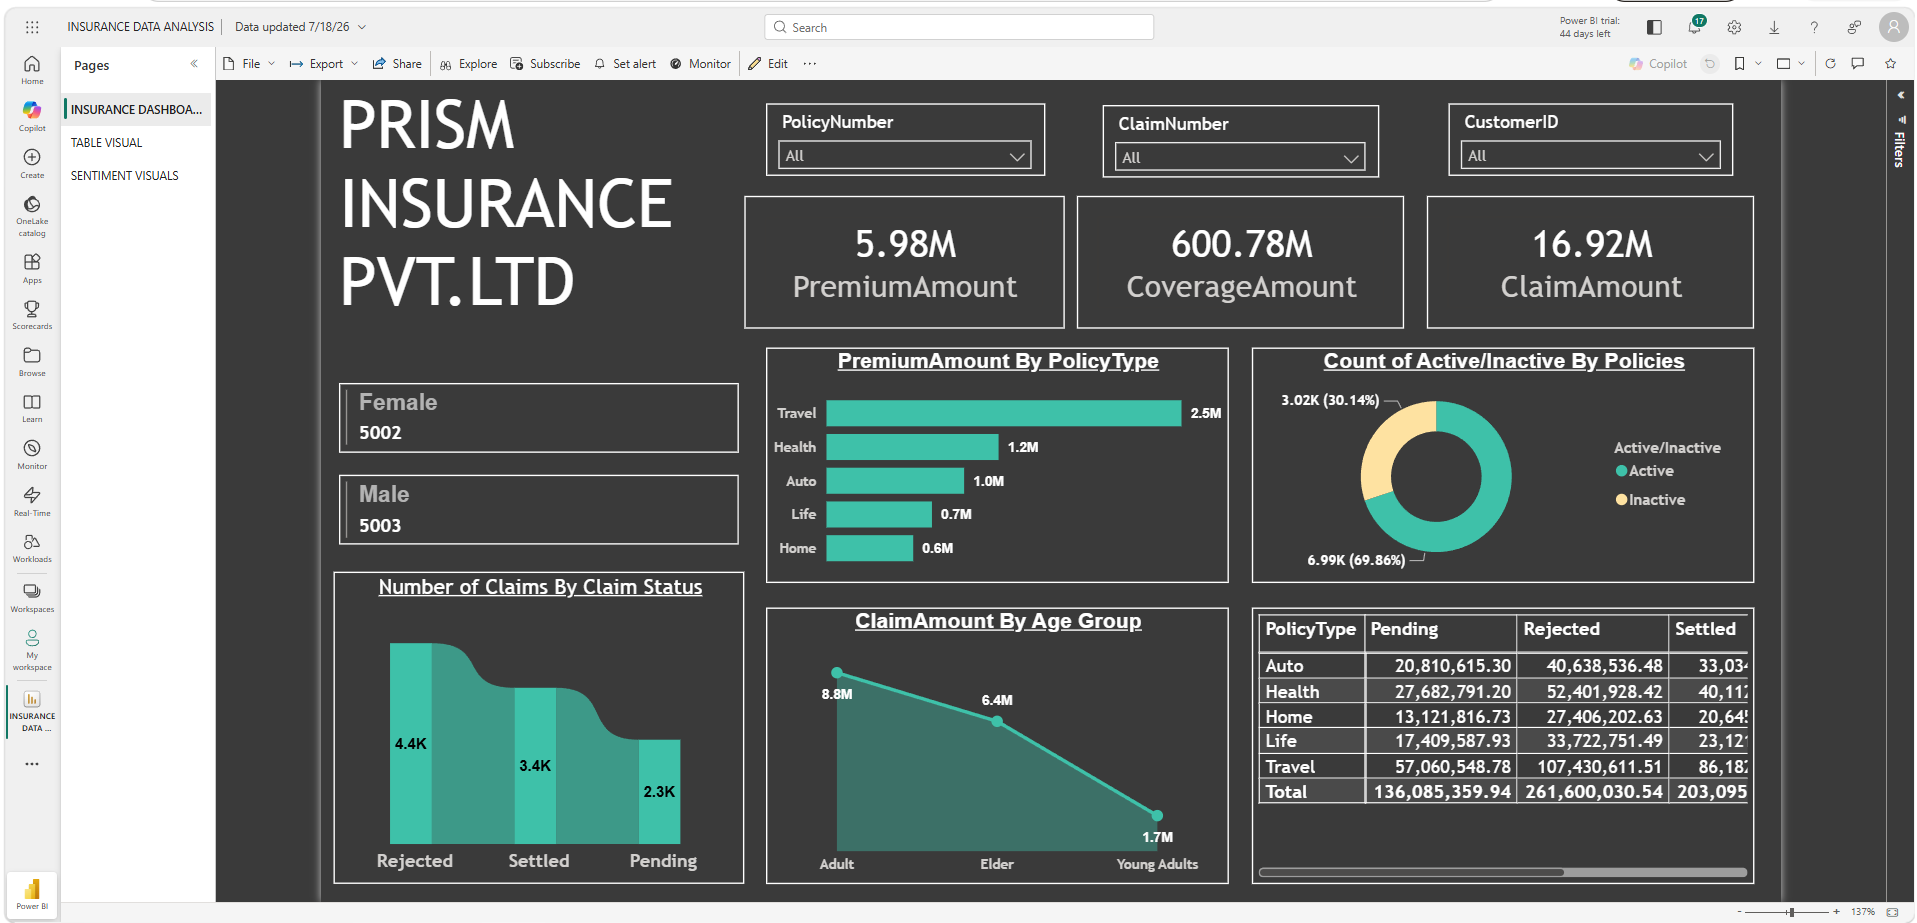

The dashboard page shown, as its layout file describes it:
{"tool":"powerbi","page":{"name":"INSURANCE DASHBOARD","canvas":[1280,720],"ordinal":0},"visuals":[{"type":"slicer","fields":{"Values":["InsuranceData.PolicyNumber"]},"box":[389.7,20.6,244.3,63.1],"z":0},{"type":"slicer","fields":{"Values":["InsuranceData.ClaimNumber"]},"box":[685,21.7,241.9,63.9],"z":1000},{"type":"slicer","fields":{"Values":["InsuranceData.CustomerID"]},"box":[988.1,20.4,250.1,63.9],"z":2000},{"type":"textbox","box":[10.9,0,341.1,233.8],"z":3000},{"type":"cardVisual","fields":{"Data":["Sum(InsuranceData.PremiumAmount)"]},"box":[371.2,101.6,280.4,116.5],"z":4000},{"type":"cardVisual","fields":{"Data":["Sum(InsuranceData.CoverageAmount)"]},"box":[662.5,101.6,287.2,116.5],"z":5000},{"type":"cardVisual","fields":{"Data":["Sum(InsuranceData.ClaimAmount)"]},"box":[968.7,101.6,287.2,116.5],"z":6000},{"type":"multiRowCard","fields":{"Values":["InsuranceData.Gender","CountNonNull(InsuranceData.Gender)"]},"box":[10.9,260.9,360.2,188.9],"z":7000},{"type":"ribbonChart","title":"Number of Claims By Claim Status","fields":{"Category":["InsuranceData.ClaimStatus"],"Y":["CountNonNull(InsuranceData.ClaimStatus)"]},"box":[10.8,430.8,360.4,273.7],"z":8000},{"type":"barChart","title":"PremiumAmount By PolicyType","fields":{"Category":["InsuranceData.PolicyType"],"Y":["Sum(InsuranceData.PremiumAmount)"]},"box":[390.2,234.4,405.1,205.9],"z":9000},{"type":"lineChart","title":"ClaimAmount By Age Group","fields":{"Category":["InsuranceData.Age Group"],"Y":["Sum(InsuranceData.ClaimAmount)"]},"box":[390.2,462,405.1,242.5],"z":10000},{"type":"donutChart","title":"Count of Active/Inactive By Policies","fields":{"Category":["InsuranceData.Active/Inactive"],"Y":["CountNonNull(InsuranceData.Active/Inactive)"]},"box":[815.6,234.4,440.3,205.9],"z":11000},{"type":"pivotTable","fields":{"Rows":["InsuranceData.PolicyType"],"Values":["Sum(InsuranceData.CoverageAmount)"],"Columns":["InsuranceData.ClaimStatus"]},"box":[815.6,462,440.3,242.5],"z":12000}]}

Visuals, with their boxes on the page's 1280x720 design canvas (x1, y1, x2, y2). These are canvas units, not pixel positions in the 1917x923 screenshot, which may show the page scaled, cropped or inside an application window:
slicer - InsuranceData.PolicyNumber: (390, 21, 634, 84)
slicer - InsuranceData.ClaimNumber: (685, 22, 927, 86)
slicer - InsuranceData.CustomerID: (988, 20, 1238, 84)
textbox: (11, 0, 352, 234)
cardVisual - Sum(InsuranceData.PremiumAmount): (371, 102, 652, 218)
cardVisual - Sum(InsuranceData.CoverageAmount): (662, 102, 950, 218)
cardVisual - Sum(InsuranceData.ClaimAmount): (969, 102, 1256, 218)
multiRowCard - InsuranceData.Gender x CountNonNull(InsuranceData.Gender): (11, 261, 371, 450)
"Number of Claims By Claim Status" ribbonChart: (11, 431, 371, 704)
"PremiumAmount By PolicyType" barChart: (390, 234, 795, 440)
"ClaimAmount By Age Group" lineChart: (390, 462, 795, 704)
"Count of Active/Inactive By Policies" donutChart: (816, 234, 1256, 440)
pivotTable - InsuranceData.PolicyType x Sum(InsuranceData.CoverageAmount): (816, 462, 1256, 704)
